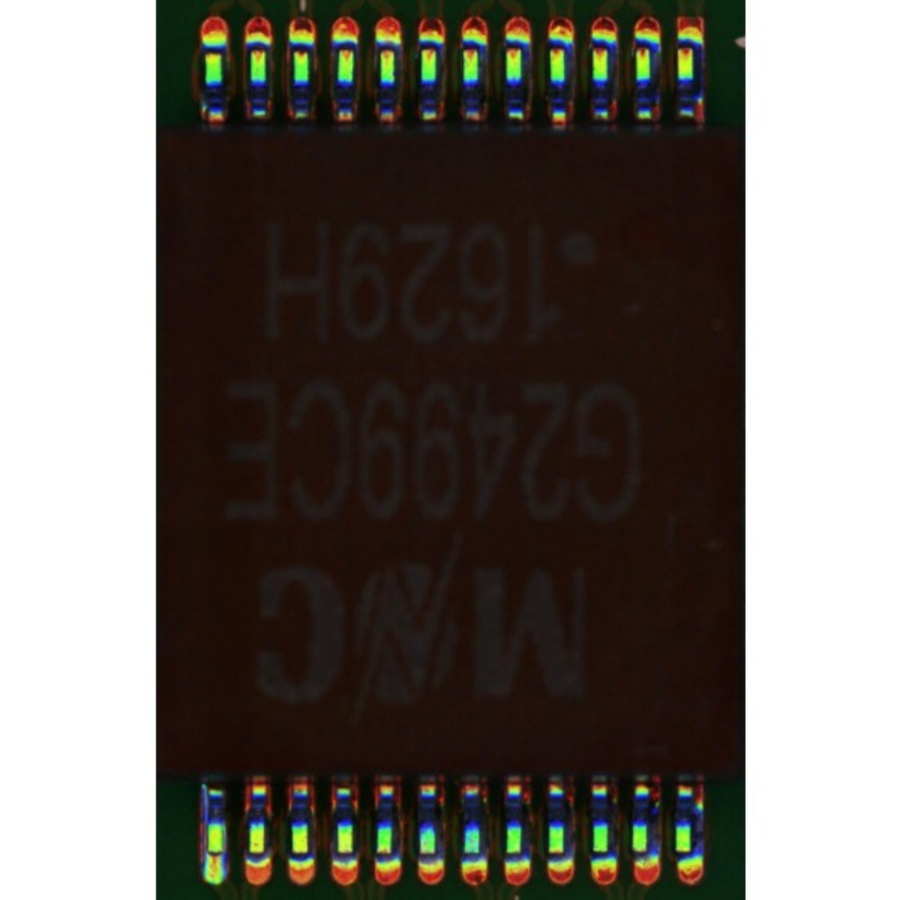Bad_podu: (208, 843, 220, 871)
Bad_qiaojiao: (201, 784, 209, 852)
